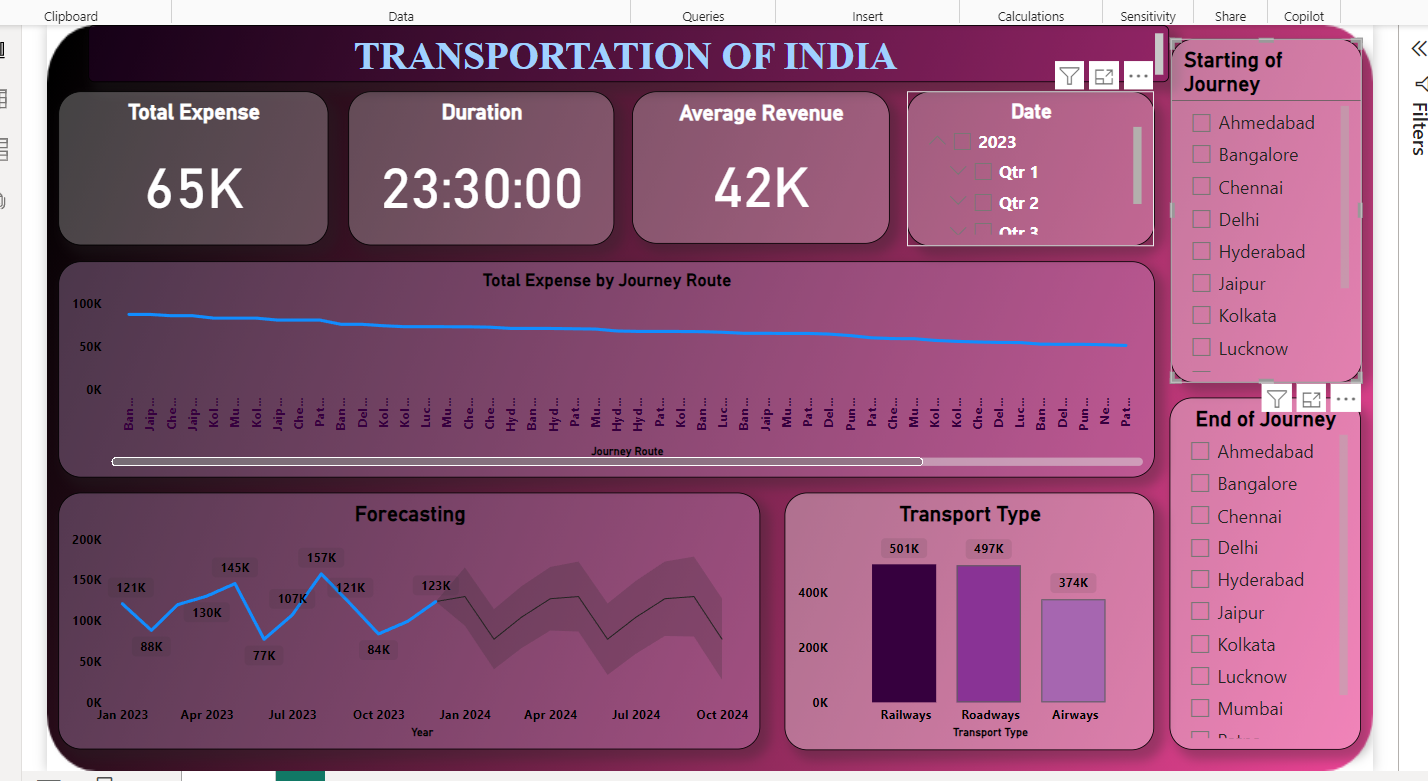

Layout of this report page (visuals, bound fields, positions):
{"tool":"powerbi","page":{"name":"Page 1","canvas":[1280,720],"ordinal":0},"visuals":[{"type":"lineChart","title":"Forecasting","fields":{"Y":["Sum(Sheet1.Distance (km))"],"Category":["Sheet1.Date and Time.Variation.Date Hierarchy.Year","Sheet1.Date and Time.Variation.Date Hierarchy.Quarter","Sheet1.Date and Time.Variation.Date Hierarchy.Month"]},"box":[11,451.5,677.9,248.4],"z":0},{"type":"card","title":"Average Revenue","fields":{"Values":["Avg(Sheet1.Revenue of Trip)"]},"box":[564.9,63.6,248.2,148],"z":1000},{"type":"card","title":"Duration","fields":{"Values":["Max(Sheet1.Duration)"]},"box":[291,63.6,256.8,149.2],"z":2000},{"type":"slicer","title":"End of Journey","fields":{"Values":["Sheet1.Ending of Journey"]},"box":[1083.4,359.5,184.6,340.2],"z":3000},{"type":"slicer","title":"Starting of Journey","fields":{"Values":["Sheet1.Starting of Journey"]},"box":[1084.6,13.3,184.6,331.8],"z":4000},{"type":"textbox","box":[39.8,0,1043.6,55.5],"z":5000},{"type":"card","title":"Total Expense","fields":{"Values":["Avg(Sheet1.Total Expense)"]},"box":[11,63.6,260.5,149.2],"z":6000},{"type":"columnChart","title":"Transport Type","fields":{"Category":["Sheet1.Transport Type"],"Y":["Sum(Sheet1.Distance (km))"]},"box":[711.8,451.2,357.1,248.5],"z":7000},{"type":"lineChart","title":"Total Expense by Journey Route","fields":{"Y":["Avg(Sheet1.Total Expense)"],"Category":["Sheet1.Journey Route"]},"box":[10.9,228,1058,208.7],"z":8000},{"type":"slicer","title":"Year (Quarterly)","fields":{"Values":["Sheet1.Date and Time.Variation.Date Hierarchy.Year","Sheet1.Date and Time.Variation.Date Hierarchy.Quarter","Sheet1.Date and Time.Variation.Date Hierarchy.Month","Sheet1.Date and Time.Variation.Date Hierarchy.Day"]},"box":[830.2,64,238.4,150],"z":8001}]}

Visuals, with their boxes in screenshot pixels (x1, y1, x2, y2):
"Forecasting" lineChart: [left=19, top=502, right=744, bottom=767]
"Average Revenue" card: [left=612, top=87, right=877, bottom=245]
"Duration" card: [left=319, top=87, right=593, bottom=246]
"End of Journey" slicer: [left=1166, top=403, right=1364, bottom=767]
"Starting of Journey" slicer: [left=1168, top=33, right=1365, bottom=388]
textbox: [left=50, top=19, right=1166, bottom=78]
"Total Expense" card: [left=19, top=87, right=298, bottom=246]
"Transport Type" columnChart: [left=769, top=501, right=1151, bottom=767]
"Total Expense by Journey Route" lineChart: [left=19, top=262, right=1151, bottom=486]
"Year (Quarterly)" slicer: [left=895, top=87, right=1150, bottom=247]
